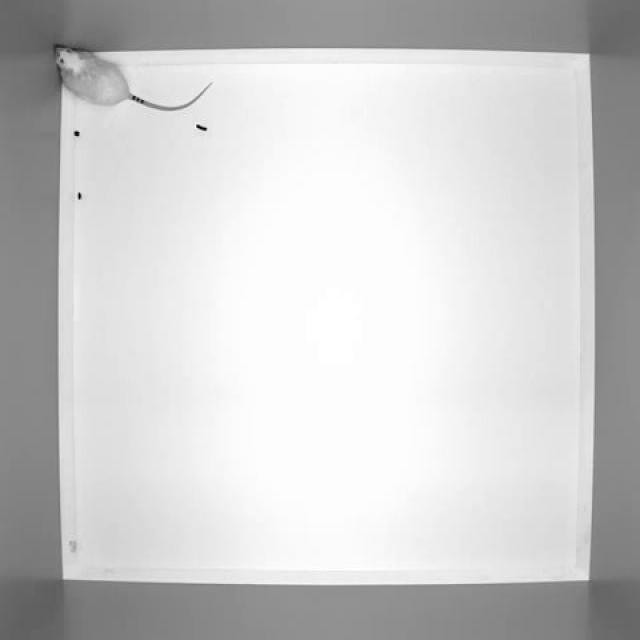rat: (51, 43, 214, 113)
